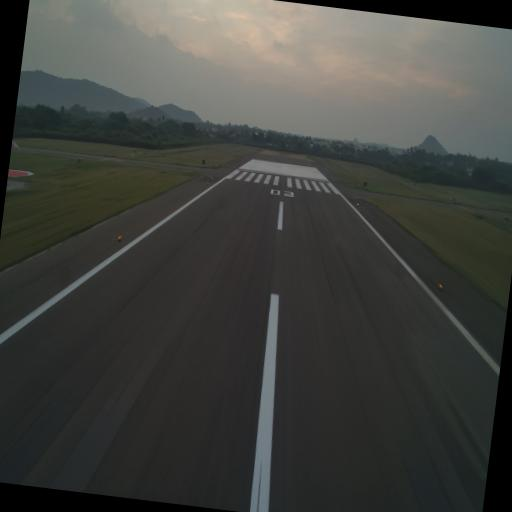on: (436, 279, 446, 294), (116, 233, 122, 244), (355, 200, 361, 208), (206, 180, 210, 185)
